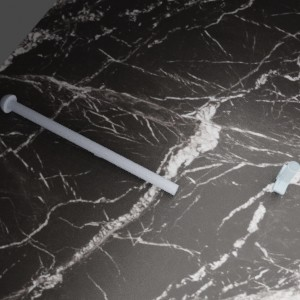lego: (0, 94, 178, 195), (271, 161, 300, 194)
